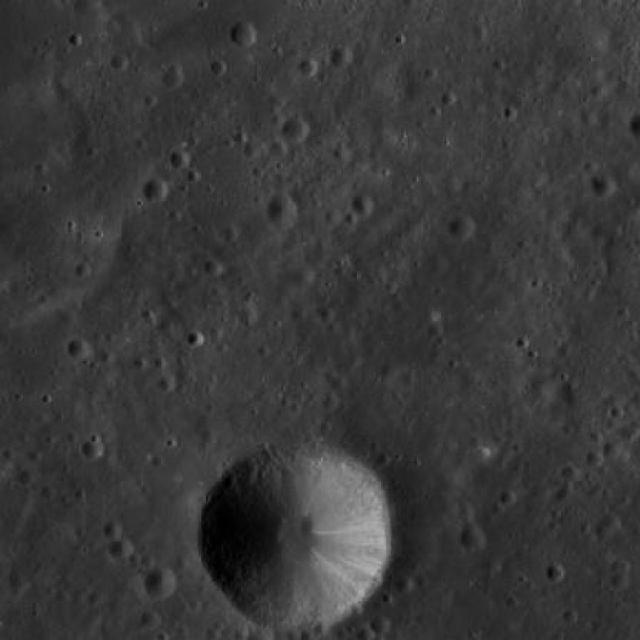crater: (195, 440, 388, 631), (0, 96, 68, 198), (144, 565, 178, 598), (46, 69, 80, 102), (265, 194, 298, 226), (280, 117, 308, 145), (457, 524, 485, 552), (448, 215, 476, 243), (230, 20, 256, 46), (590, 176, 616, 201), (142, 178, 167, 202), (108, 536, 132, 561), (295, 514, 320, 538), (67, 337, 90, 360), (290, 266, 312, 289), (350, 194, 372, 217), (80, 438, 103, 460), (330, 48, 352, 70), (170, 148, 192, 170), (73, 0, 99, 18), (161, 68, 182, 89), (298, 58, 318, 78), (237, 304, 257, 324), (103, 519, 123, 539), (138, 609, 158, 629), (559, 462, 579, 482), (369, 614, 389, 634), (55, 308, 74, 327), (545, 562, 564, 581), (598, 514, 618, 532), (584, 450, 604, 468), (396, 574, 414, 594), (110, 51, 128, 70), (270, 138, 288, 157), (603, 440, 622, 458), (322, 208, 340, 226), (610, 558, 628, 576), (610, 572, 628, 590), (376, 360, 394, 378), (156, 373, 175, 390), (623, 363, 640, 382), (18, 469, 36, 486), (457, 504, 474, 522), (153, 314, 170, 332), (604, 390, 621, 408), (209, 59, 226, 76), (186, 330, 203, 347), (8, 568, 24, 586), (243, 143, 260, 159), (203, 258, 220, 274), (322, 394, 338, 411), (619, 422, 636, 438), (268, 91, 284, 107), (40, 484, 56, 500), (595, 524, 611, 540), (562, 608, 578, 624), (426, 322, 442, 338), (400, 372, 416, 388), (467, 21, 482, 37), (330, 376, 347, 390), (357, 626, 374, 640), (496, 266, 510, 282)
